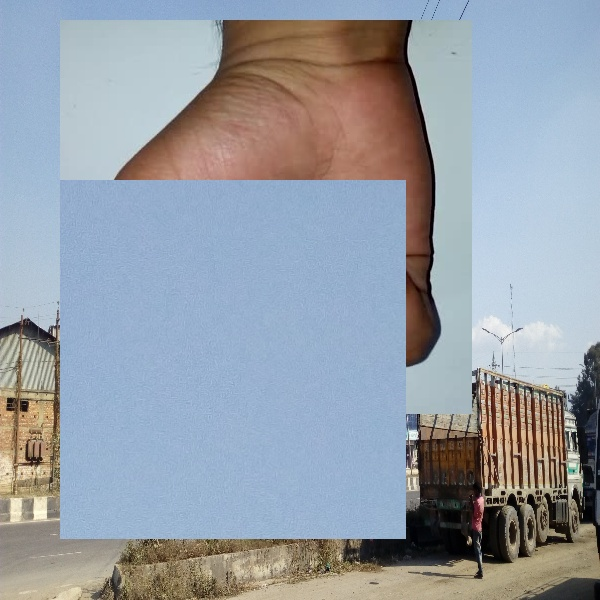A: (60, 180, 406, 539)
